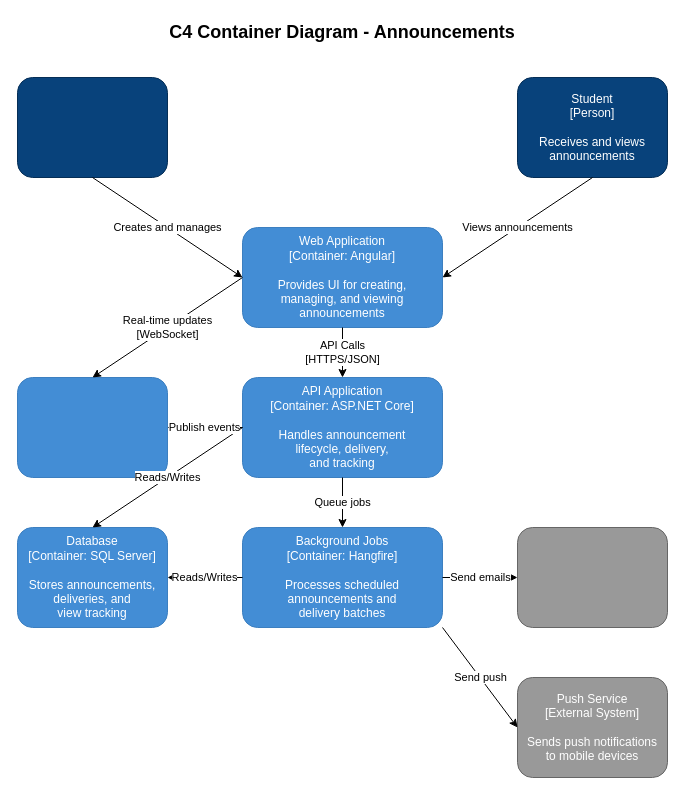
This 685x795 diagram has some shape labels left out. The shapes that lost their labels are listed below. From the top down, each one's box as (x1, y1, x2, y2) in pixels, then its label:
(16, 76, 168, 178): Instructor [Person] Creates and manages course announcements
(16, 376, 168, 478): WebSocket Server [Container: SignalR] Real-time notification delivery to clients
(516, 526, 668, 628): Email Service [External System] Sends announcement notification emails
